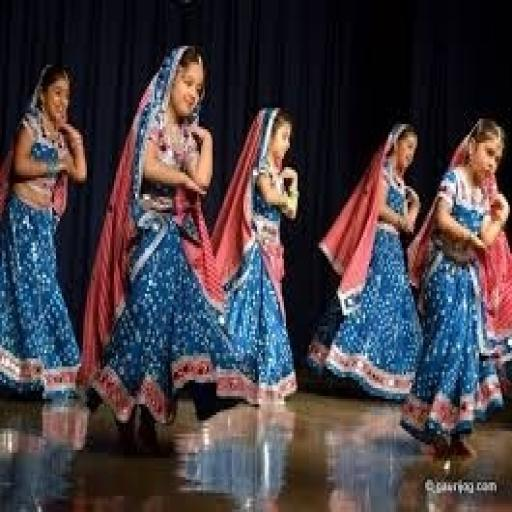dancing: (400, 116, 510, 461), (307, 119, 427, 404), (0, 59, 91, 404)
